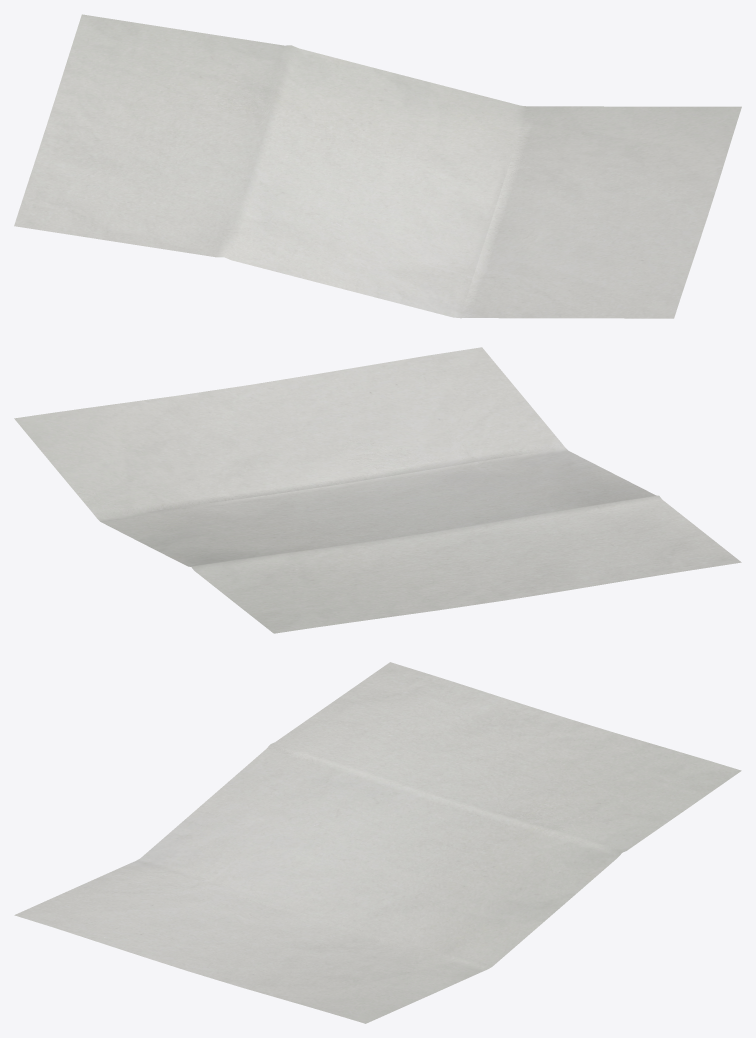
The model's file is paper.obj.
3 views of the same model, one above another, from view 1: azimuth 30°, elevation 25°; view 2: azimuth 150°, elevation 25°; view 3: azimuth 270°, elevation 25° (orthographic). The views are drawn at different scales.
Visible parts, largest first — view 1: Object_2.007; view 2: Object_2.007; view 3: Object_2.007.
Part boxes in pixels (x1,y1,x2,y2): Object_2.007: [14, 14, 741, 318]; Object_2.007: [14, 347, 741, 633]; Object_2.007: [14, 662, 741, 1023].
Bounding box in the file's own units: 0.0983 × 0.00977 × 0.0944.
